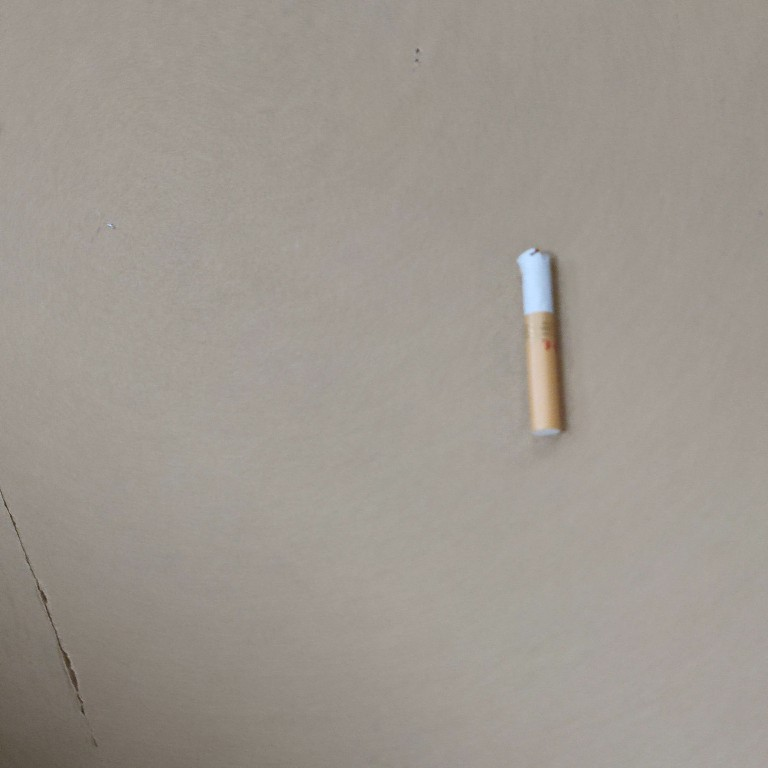cigarette: (512, 243, 568, 438)
